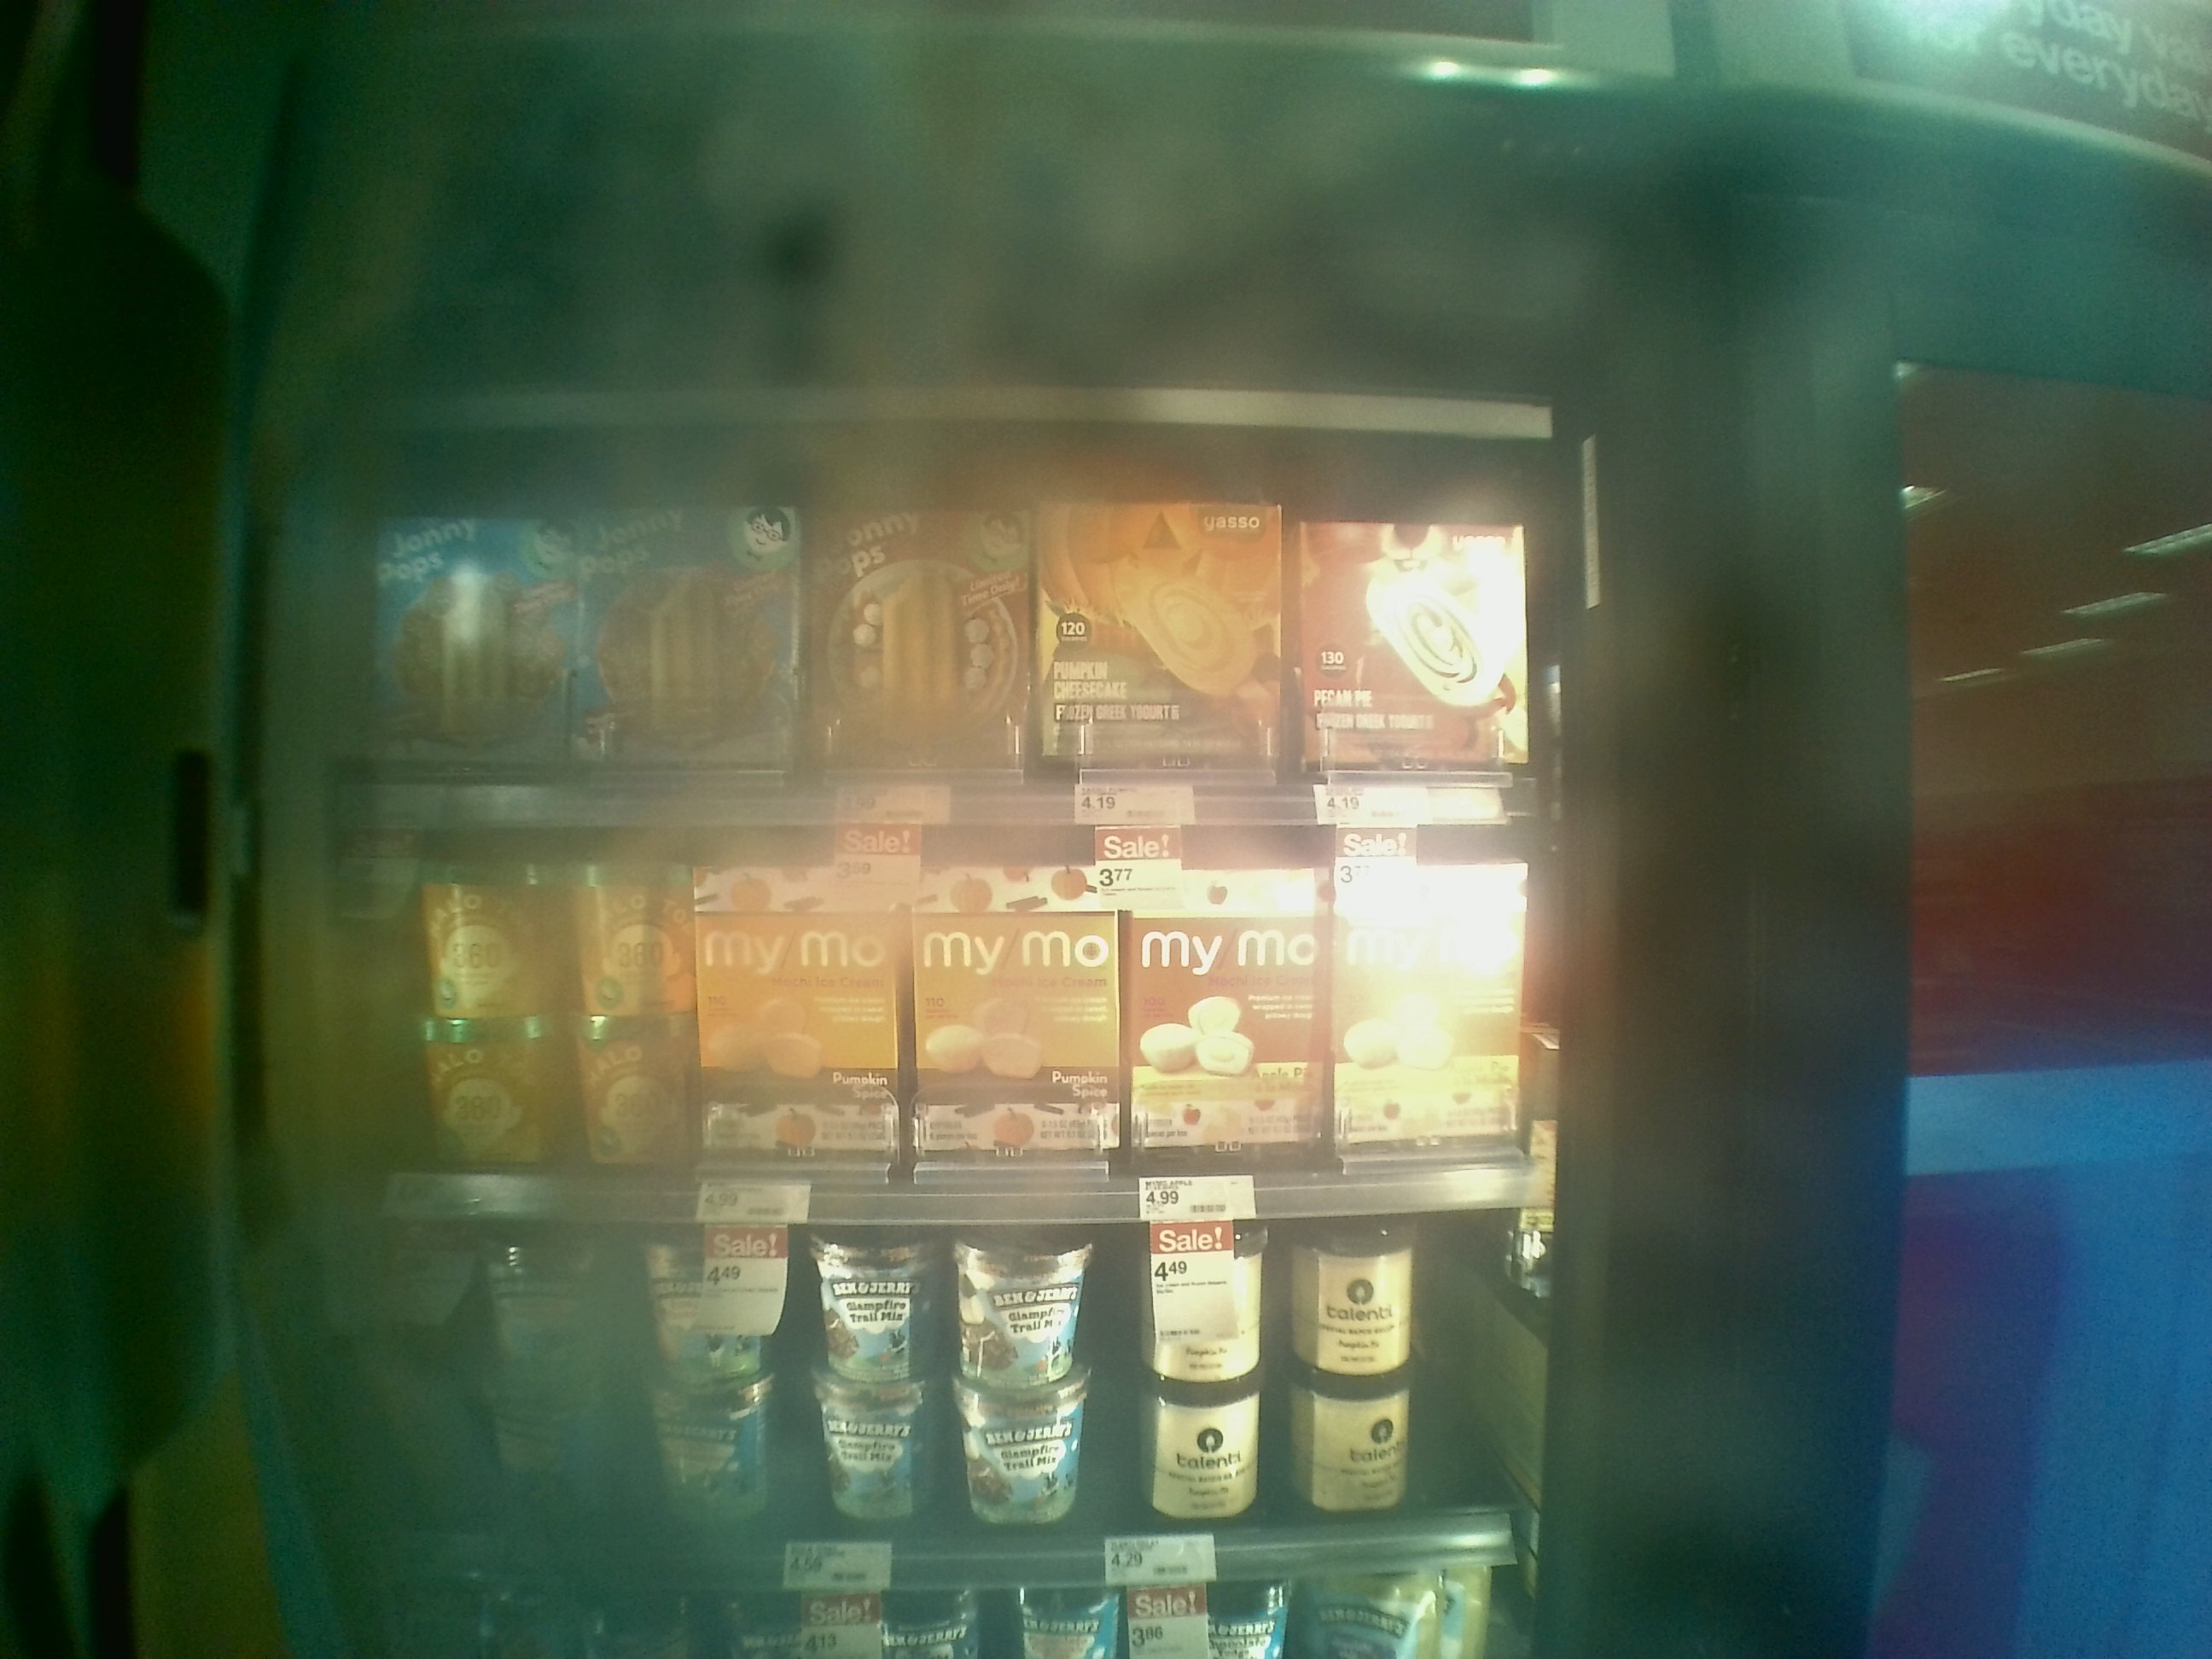shelf: (308, 791, 1554, 1202), (334, 411, 1545, 816)
